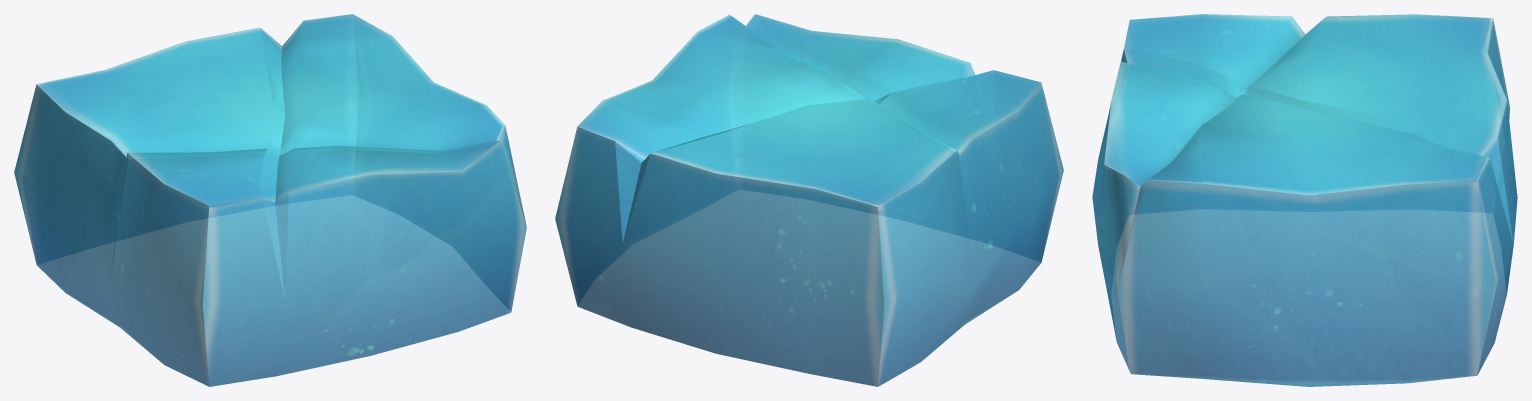
File: ice_1.fbx
3 views of the same model, side by side, from view 1: azimuth 30°, elevation 25°; view 2: azimuth 150°, elevation 25°; view 3: azimuth 270°, elevation 25° (orthographic). The views are drawn at different scales.
Visible parts, largest first — view 1: ice_element_1; view 2: ice_element_1; view 3: ice_element_1.
Part boxes in pixels (x1,y1,x2,y2): ice_element_1: (14, 14, 526, 386); ice_element_1: (555, 14, 1063, 386); ice_element_1: (1092, 14, 1517, 386).
Bounding box in the file's own units: 151 × 73.67 × 145.
